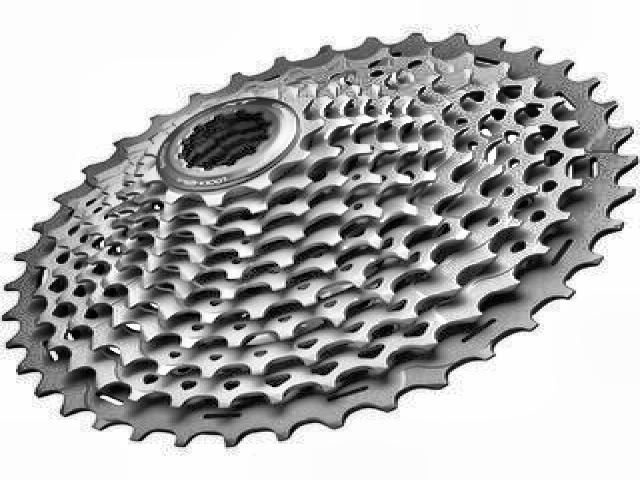cassette: (4, 30, 637, 448)
